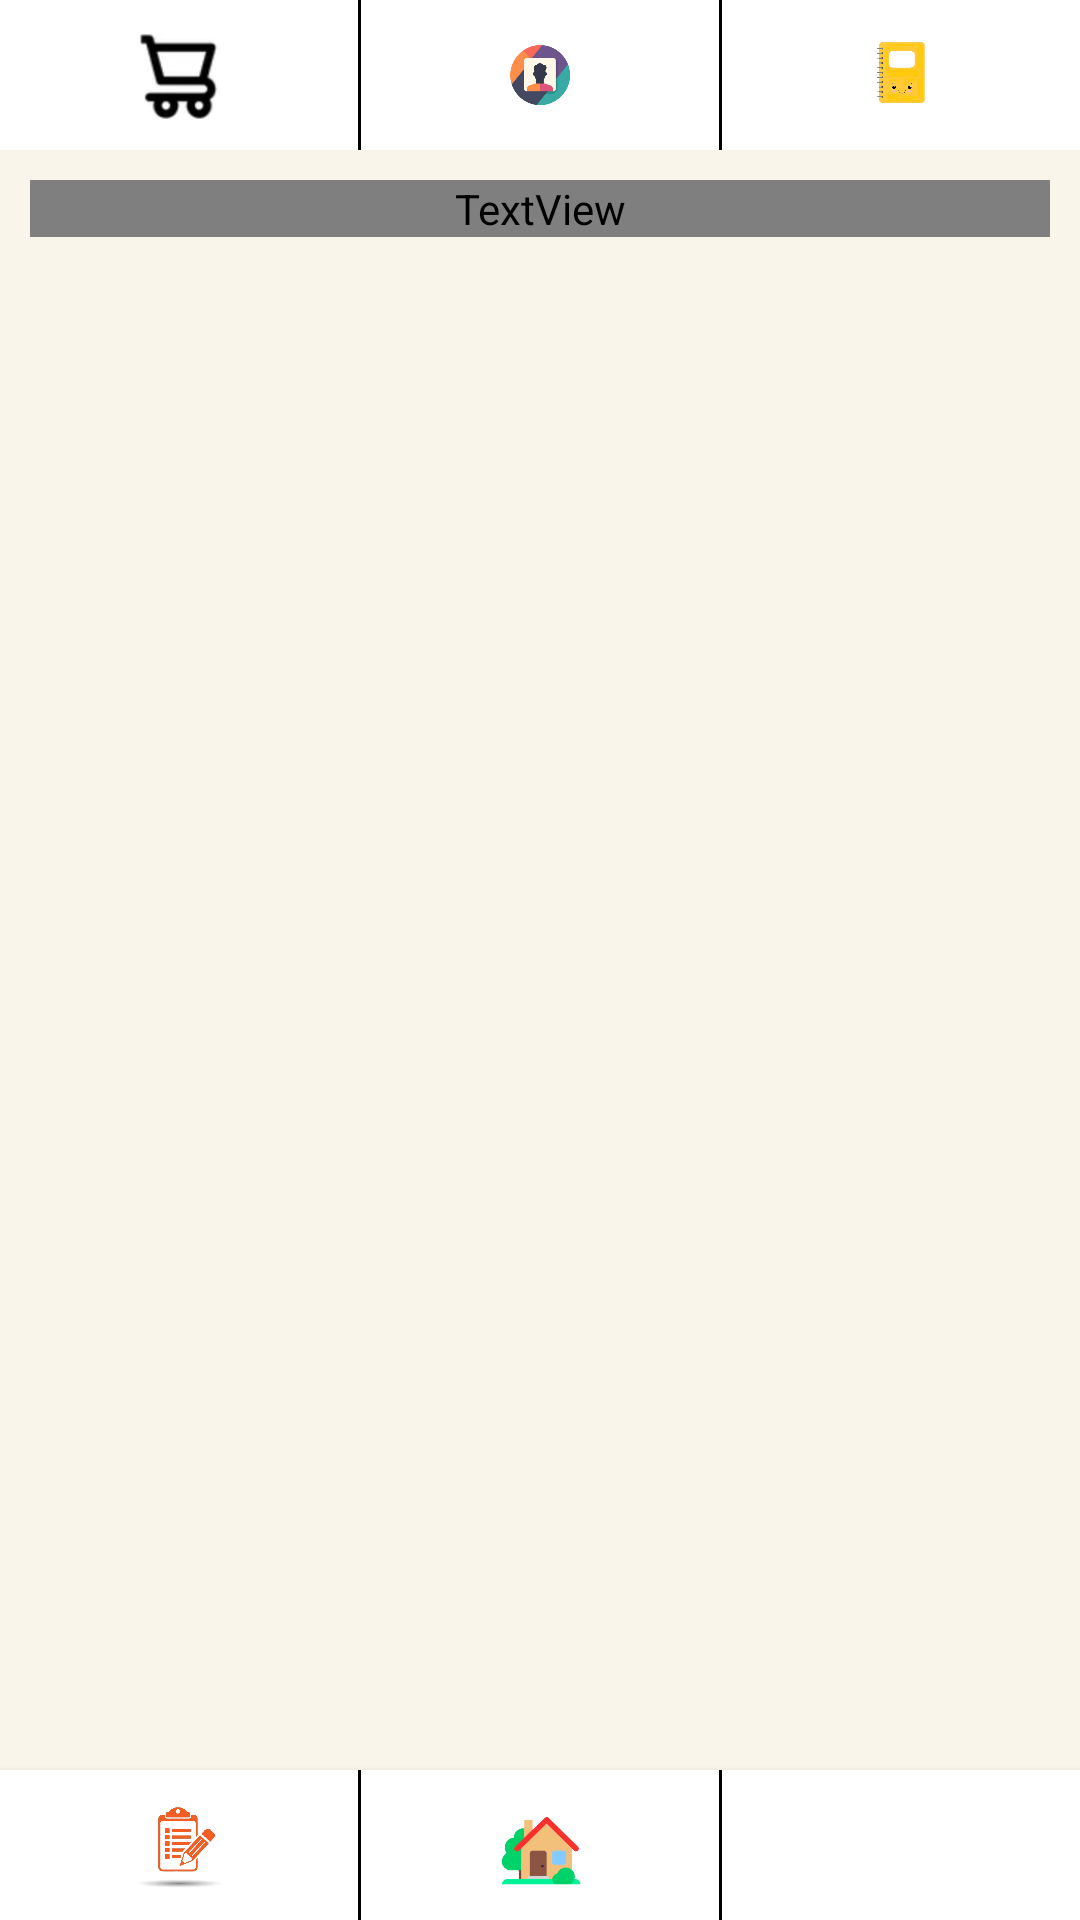

Locate icon controls on the screen. Image size 1080x1920, boxes as (x1, y1, x2, y2).
drawbook: (877, 42, 925, 103)
profile: (510, 45, 570, 105)
shop: (140, 34, 217, 119)
